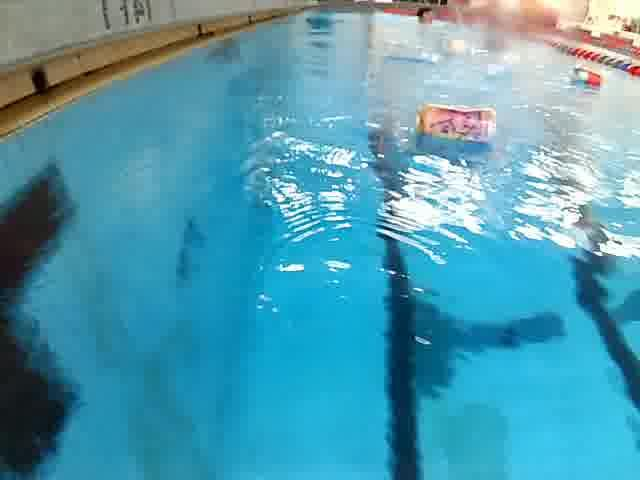Bottle: (436, 34, 498, 57)
Can: (410, 96, 501, 154), (570, 63, 612, 94)
